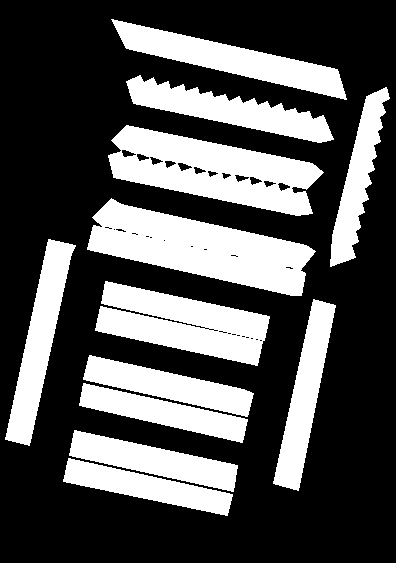parkingspot: (111, 19, 346, 99), (92, 198, 315, 271), (87, 225, 305, 295), (5, 239, 75, 445), (126, 75, 333, 142), (111, 125, 323, 189), (108, 151, 312, 215), (273, 299, 335, 490), (330, 87, 389, 266), (83, 355, 253, 416), (69, 430, 237, 491), (101, 281, 269, 340), (79, 383, 247, 442), (95, 306, 262, 365), (63, 458, 232, 515)
